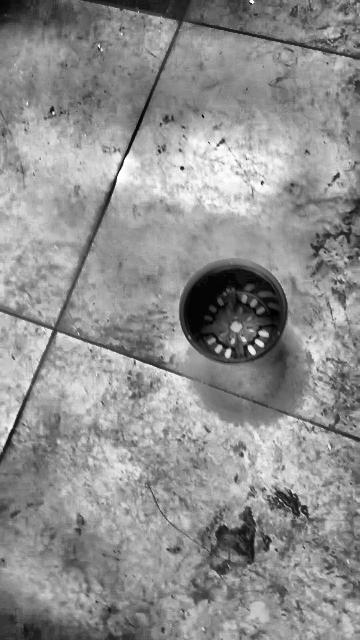pot: (179, 260, 287, 365)
